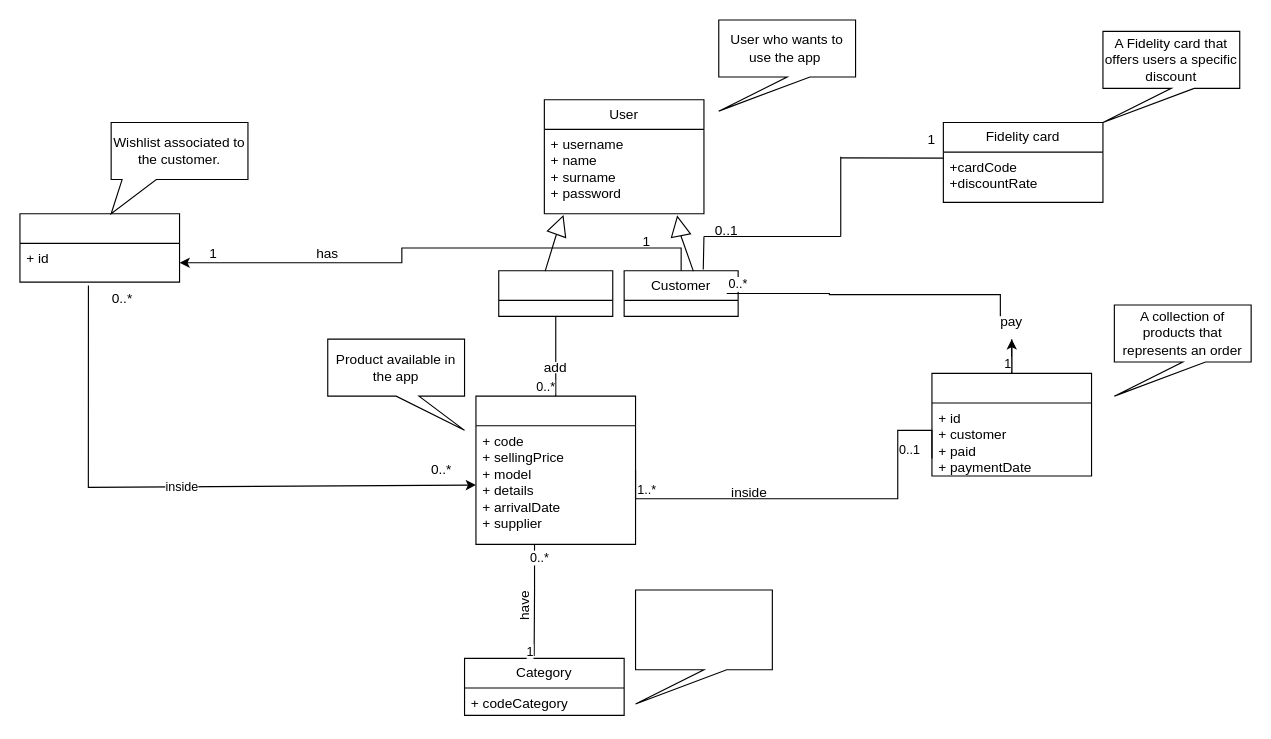
Image size: 1271x739. Some labels were removed from this diagram. The shapes that lost their labels are listed below. From the top down, each one's box as (x1, y1, x2, y2) in pixels, then its label:
(19, 213, 180, 282): Wishlist
(498, 270, 613, 316): Manager
(931, 372, 1092, 476): Cart
(475, 395, 636, 544): Product
(634, 589, 772, 704): Category that represents the different types of products available
